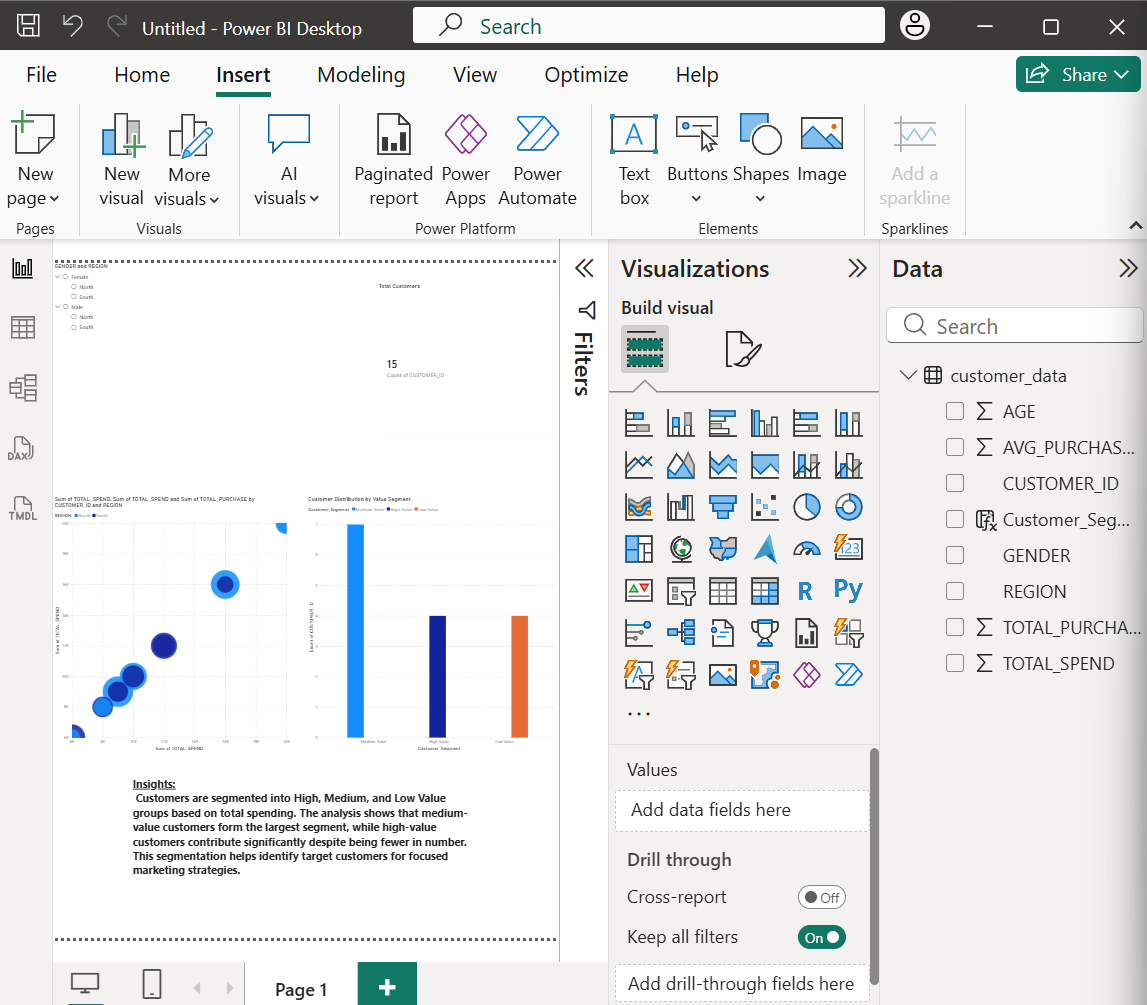

This screenshot's page, from the dashboard's own definition file:
{"tool":"powerbi","page":{"name":"Page 1","canvas":[1500,2000],"ordinal":0},"visuals":[{"type":"scatterChart","fields":{"X":["Sum(customer_data.TOTAL_SPEND)"],"Y":["Sum(customer_data.TOTAL_SPEND)"],"Size":["Sum(customer_data.TOTAL_PURCHASE)"],"Category":["customer_data.CUSTOMER_ID"],"Series":["customer_data.REGION"]},"box":[0,689.2,707,760.4],"z":0},{"type":"clusteredColumnChart","title":"Customer Distribution by Value Segment","fields":{"Category":["customer_data.Customer_Segment"],"Y":["Count(customer_data.CUSTOMER_ID)"],"Series":["customer_data.Customer_Segment"]},"box":[751.5,689.2,747,760.4],"z":1000},{"type":"textbox","box":[231.2,1516.3,1036.1,369.1],"z":1001},{"type":"cardVisual","title":"Total Customers","fields":{"Data":["Count(customer_data.CUSTOMER_ID)"]},"box":[960.5,57.8,538.1,480.2],"z":1002},{"type":"listSlicer","fields":{"Values":["customer_data.GENDER","customer_data.REGION"]},"box":[0,0,938.3,684.8],"z":1003}]}

Visuals, with their boxes on the page's 1500x2000 design canvas (x1, y1, x2, y2). These are canvas units, not pixel positions in the 1147x1005 screenshot, which may show the page scaled, cropped or inside an application window:
scatterChart - Sum(customer_data.TOTAL_SPEND) x Sum(customer_data.TOTAL_SPEND): bbox=[0, 689, 707, 1450]
"Customer Distribution by Value Segment" clusteredColumnChart: bbox=[752, 689, 1498, 1450]
textbox: bbox=[231, 1516, 1267, 1885]
"Total Customers" cardVisual: bbox=[960, 58, 1499, 538]
listSlicer - customer_data.GENDER x customer_data.REGION: bbox=[0, 0, 938, 685]
